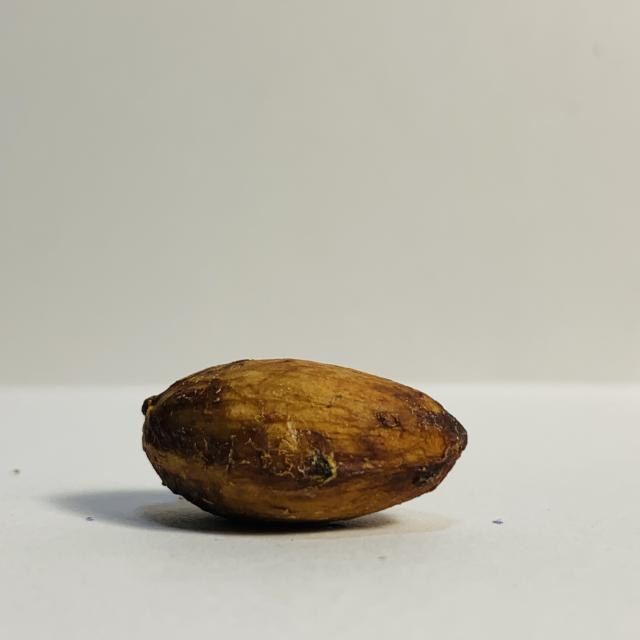Fine_cocoabeans: (97, 324, 504, 567)
